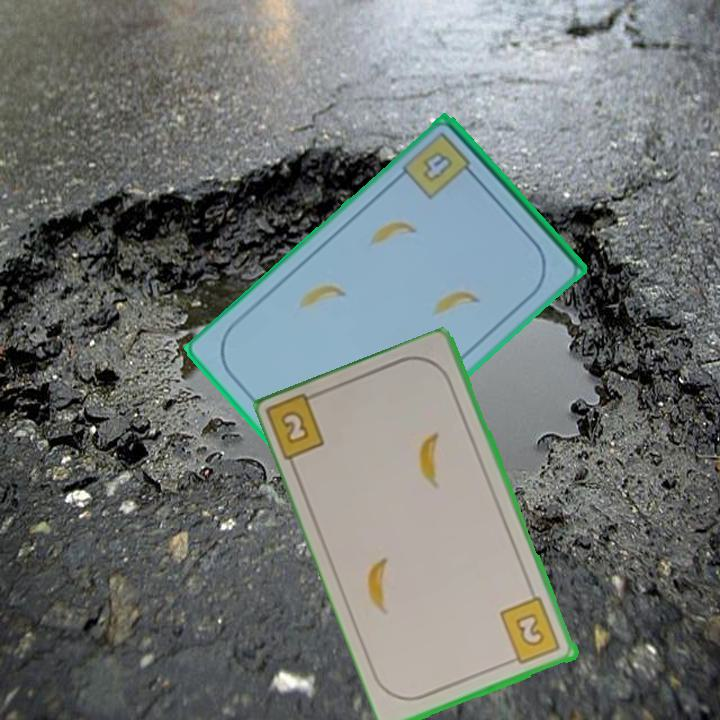2b: (496, 594, 564, 667), (265, 387, 328, 465)
4b: (419, 148, 456, 186)
